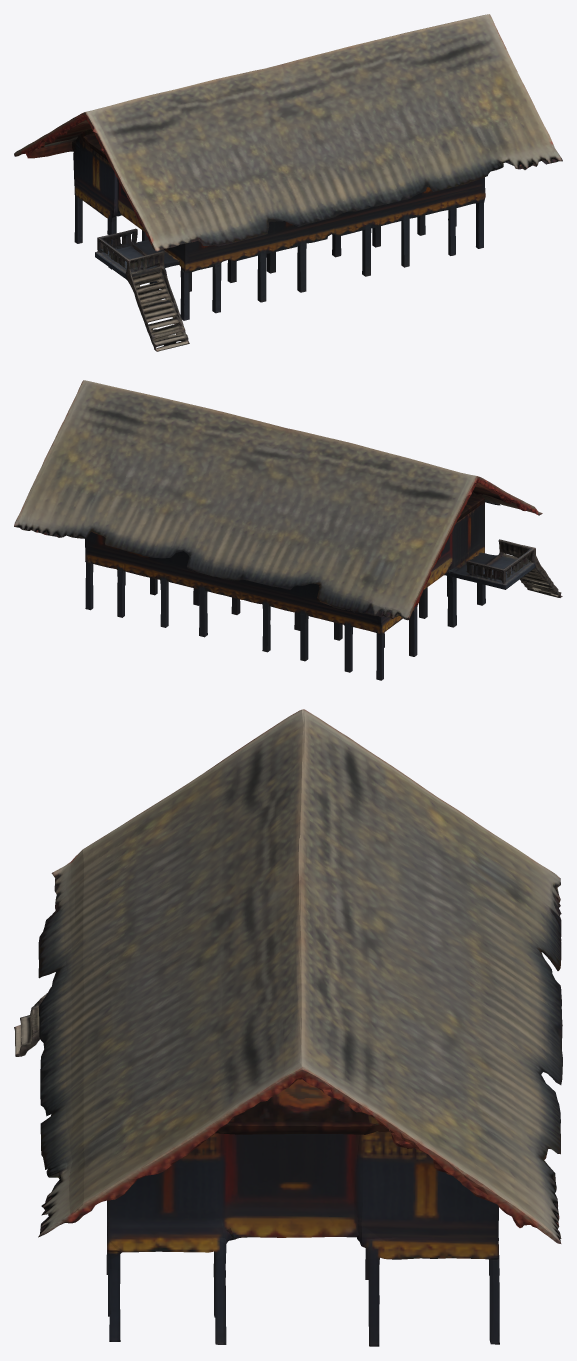
File: aceh.glb
3 renders of one model, top to bottom at view 1: azimuth 30°, elevation 25°; view 2: azimuth 150°, elevation 25°; view 3: azimuth 270°, elevation 25°, orthographic. The views are drawn at different scales.
Parts seen in each view (by area): view 1: world; view 2: world; view 3: world.
Part boxes in pixels (bbox=[...]): world: bbox=[14, 14, 562, 351]; world: bbox=[14, 380, 562, 680]; world: bbox=[14, 709, 562, 1346].
Bounding box in the file's own units: 0.694 × 0.2953 × 0.4392.
Materials: 1 (1 with a texture image).
